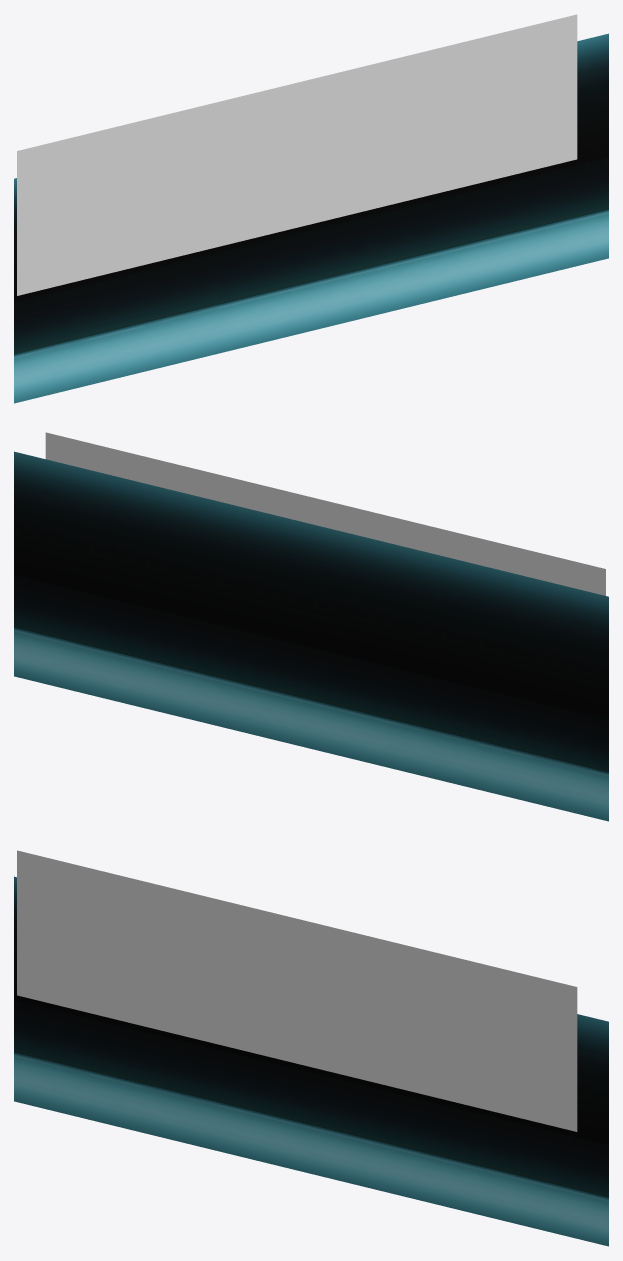
The model's file is pref_fxui_candyhotshop_banner_02.fbx.
The picture shows the model from 3 angles, top to bottom: view 1: azimuth 30°, elevation 25°; view 2: azimuth 150°, elevation 25°; view 3: azimuth 330°, elevation 25°; orthographic projection.
Parts seen in each view (by area): view 1: mask02 (1), mask02; view 2: mask02, mask02 (1); view 3: mask02 (1), mask02.
Part boxes in pixels (bbox=[...]): mask02 (1): bbox=[17, 14, 577, 295]; mask02: bbox=[14, 33, 608, 403]; mask02: bbox=[14, 451, 608, 821]; mask02 (1): bbox=[45, 432, 605, 595]; mask02 (1): bbox=[17, 850, 577, 1131]; mask02: bbox=[14, 876, 608, 1246].
Size of the model in its own units: 914 by 370 by 0.02.
